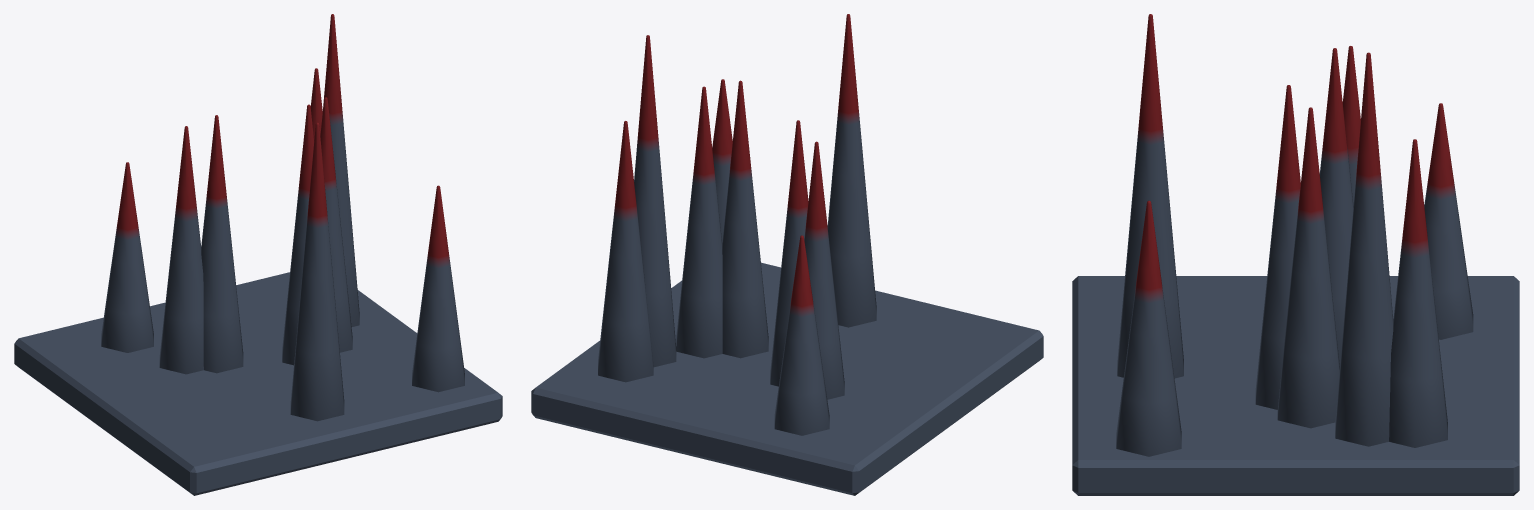
File: prop_spikes1_7499.glb
The picture shows the model from 3 angles, left to right: view 1: azimuth 30°, elevation 25°; view 2: azimuth 150°, elevation 25°; view 3: azimuth 270°, elevation 25°; orthographic projection. The views are drawn at different scales.
Parts seen in each view (by area): view 1: prop_spikes1_7499; view 2: prop_spikes1_7499; view 3: prop_spikes1_7499.
Part boxes in pixels (x1,y1,x2,y2): prop_spikes1_7499: (14,14,502,495); prop_spikes1_7499: (531,14,1043,495); prop_spikes1_7499: (1072,14,1519,495).
Bounding box in the file's own units: 0.7954 × 0.8385 × 0.7954.
Materials: 1 (1 with a texture image).
